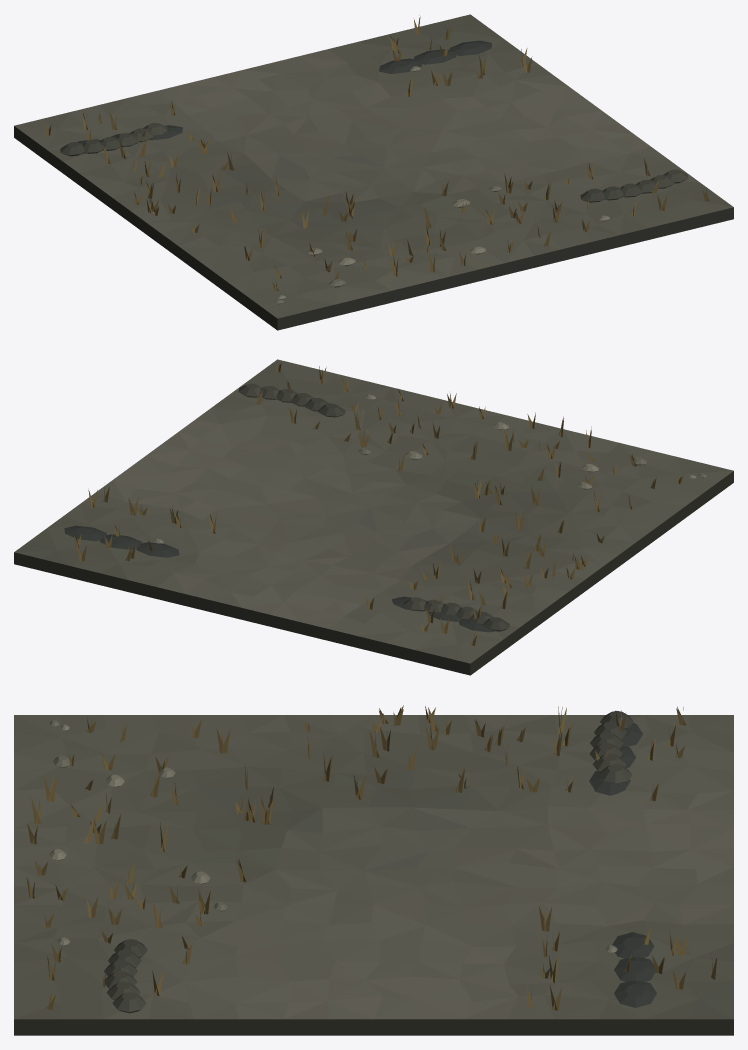
File: CHUNK_ash_grassland__dry_creek_crossing.glb
The picture shows the model from 3 angles, top to bottom: view 1: azimuth 30°, elevation 25°; view 2: azimuth 150°, elevation 25°; view 3: azimuth 270°, elevation 25°; orthographic projection. The views are drawn at different scales.
Parts seen in each view (by area): view 1: CHUNK_ash_grassland__dry_creek_crossing; view 2: CHUNK_ash_grassland__dry_creek_crossing; view 3: CHUNK_ash_grassland__dry_creek_crossing.
Boxes of the visible parts, bbox=[...] form: CHUNK_ash_grassland__dry_creek_crossing: bbox=[14, 14, 733, 330]; CHUNK_ash_grassland__dry_creek_crossing: bbox=[14, 359, 733, 675]; CHUNK_ash_grassland__dry_creek_crossing: bbox=[14, 705, 733, 1035].
Size of the model in its own units: 8 by 0.551 by 8.
